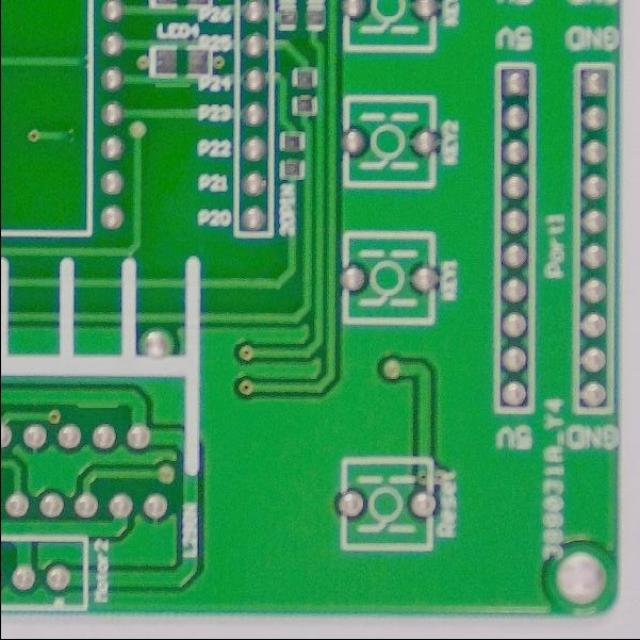Spur: (68, 384, 128, 414), (150, 69, 194, 93)
